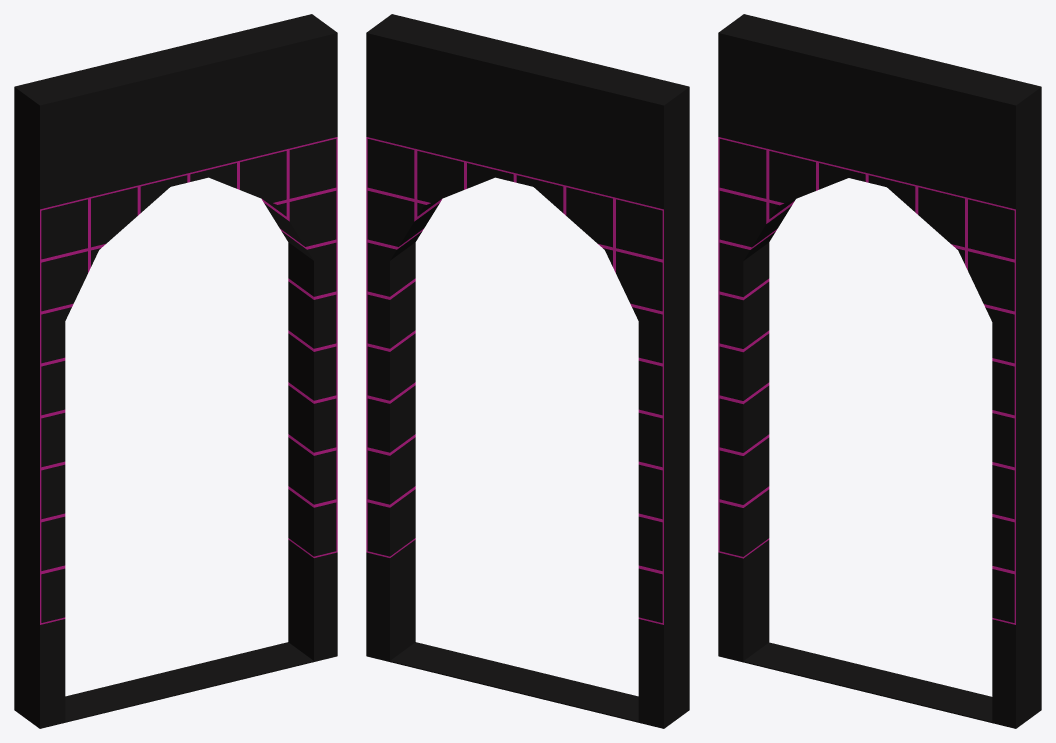
Rendered from LEDGridDoorframe.glb.
The picture shows the model from 3 angles, left to right: view 1: azimuth 30°, elevation 25°; view 2: azimuth 150°, elevation 25°; view 3: azimuth 330°, elevation 25°; orthographic projection.
Visible parts, largest first — view 1: wall_LEDgrid_door; view 2: wall_LEDgrid_door; view 3: wall_LEDgrid_door.
Part boxes in pixels (x1=…): wall_LEDgrid_door: x1=14, y1=14, x2=337, y2=728; wall_LEDgrid_door: x1=366, y1=14, x2=689, y2=728; wall_LEDgrid_door: x1=718, y1=14, x2=1041, y2=728.
Size of what is drawn, in the model's own units: 2 by 4 by 0.3.
Materials: 2 (2 with a texture image).
